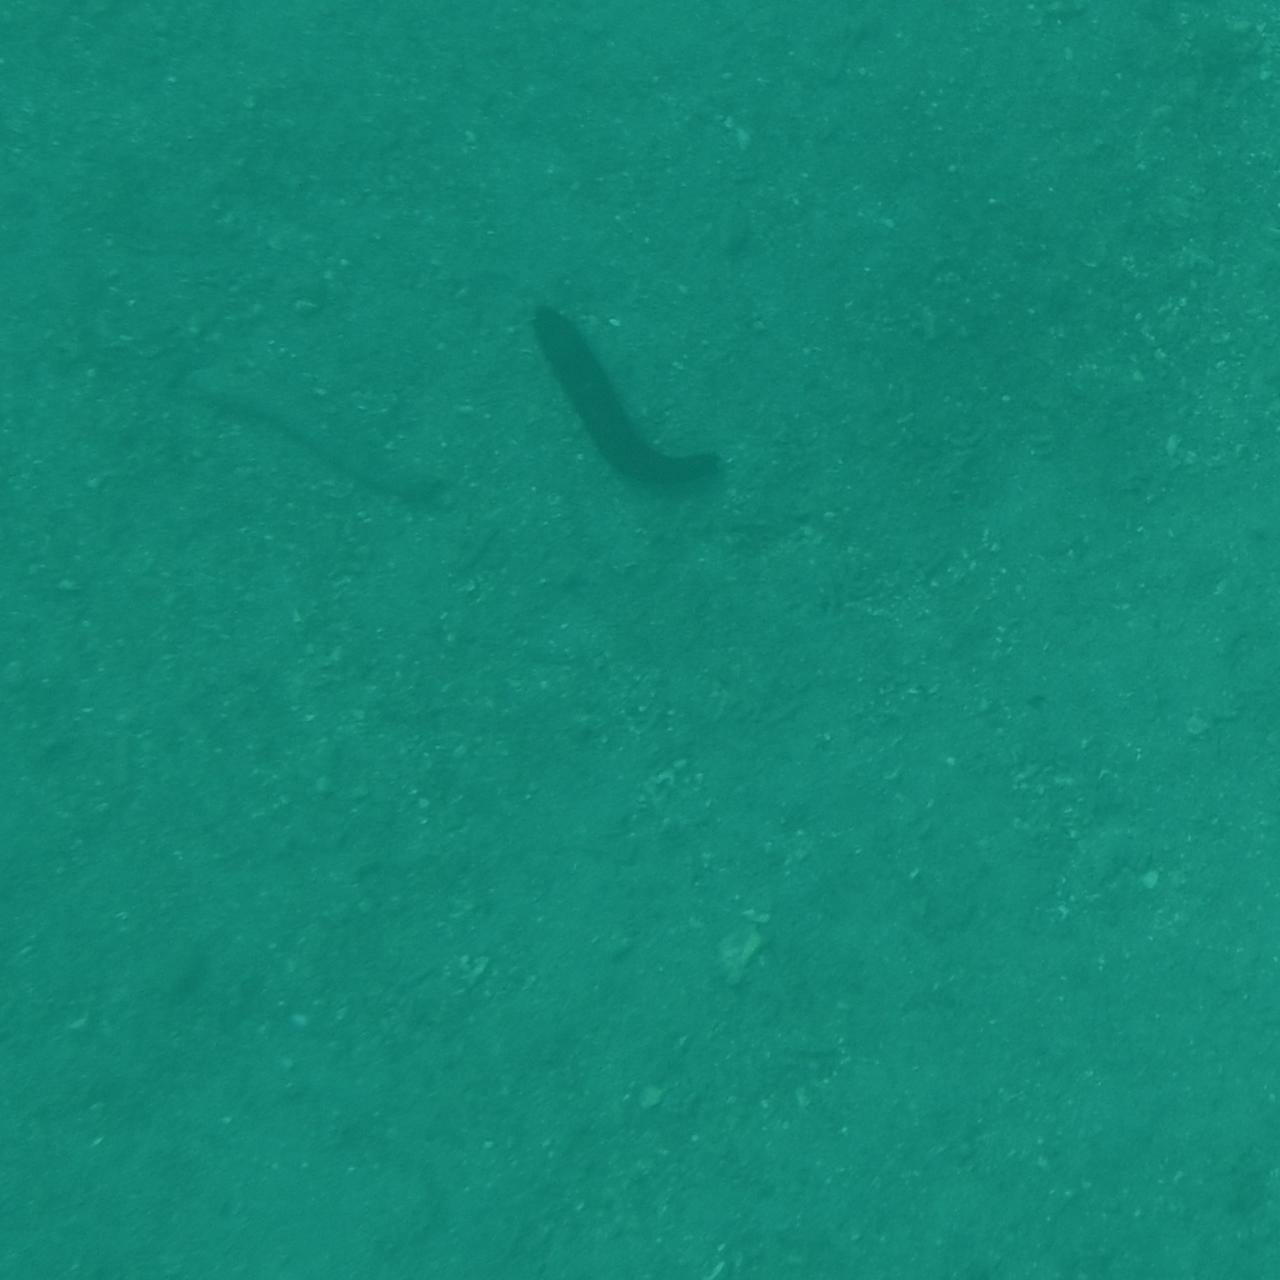Holothuria tubulosa: (142, 343, 444, 509), (536, 297, 720, 517), (0, 953, 86, 1242), (0, 1074, 102, 1280), (177, 1163, 314, 1280), (921, 1142, 1035, 1280), (879, 0, 1163, 48), (1162, 1173, 1280, 1280), (0, 1224, 168, 1280), (1177, 1212, 1280, 1280)
